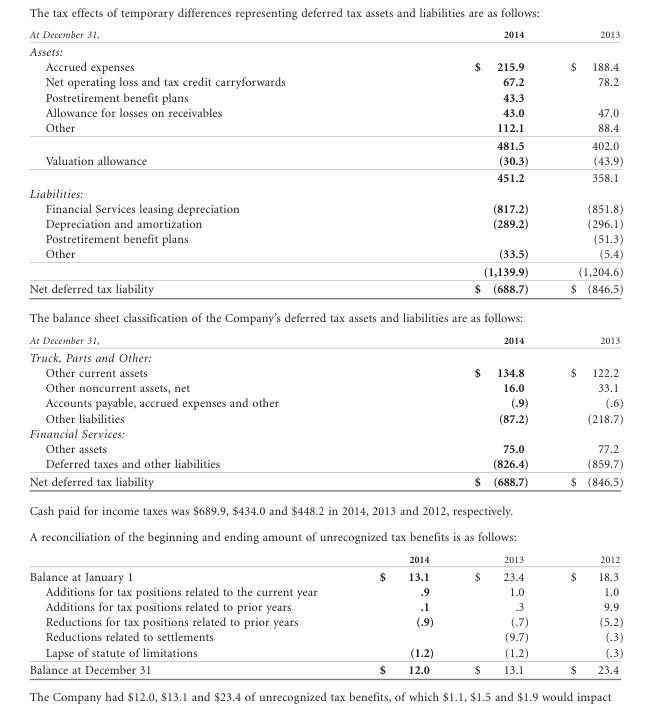table: (28, 28, 622, 676)
table column: (28, 28, 347, 676), (347, 28, 453, 676), (453, 28, 548, 676), (548, 28, 622, 676)
table column header: (28, 28, 622, 42)
table projected row header: (28, 495, 622, 548), (28, 303, 622, 329), (28, 42, 622, 59), (28, 348, 622, 365), (28, 185, 622, 200), (28, 425, 622, 440)
table row: (28, 495, 622, 548), (28, 303, 622, 329), (28, 280, 622, 303), (28, 472, 622, 495), (28, 329, 622, 348), (28, 548, 622, 567), (28, 262, 622, 280), (28, 42, 622, 59), (28, 119, 622, 136), (28, 168, 622, 185), (28, 245, 622, 262), (28, 348, 622, 365), (28, 455, 622, 472), (28, 136, 622, 152), (28, 152, 622, 168), (28, 567, 622, 583), (28, 583, 622, 599), (28, 644, 622, 660), (28, 660, 622, 676), (28, 59, 622, 74), (28, 74, 622, 89), (28, 89, 622, 104), (28, 104, 622, 119), (28, 185, 622, 200), (28, 200, 622, 215), (28, 215, 622, 230), (28, 230, 622, 245), (28, 365, 622, 380), (28, 380, 622, 395), (28, 395, 622, 410), (28, 410, 622, 425), (28, 425, 622, 440), (28, 440, 622, 455), (28, 599, 622, 614), (28, 614, 622, 629), (28, 629, 622, 644), (28, 28, 622, 42)
